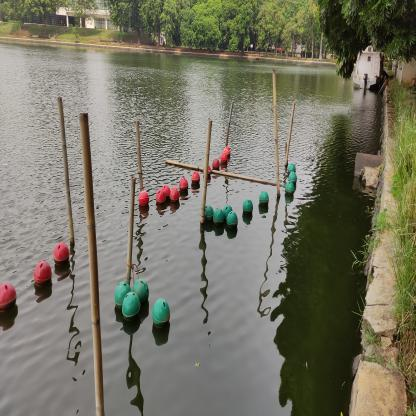green_buoy: (152, 297, 171, 330), (122, 290, 141, 323), (114, 280, 132, 309), (132, 277, 150, 306), (213, 206, 224, 226), (227, 210, 238, 230), (242, 198, 254, 216), (259, 190, 270, 207), (204, 204, 214, 222), (223, 204, 233, 222), (285, 180, 295, 196), (288, 171, 297, 184), (288, 163, 296, 174)
red_buoy: (0, 282, 18, 314), (32, 259, 52, 287), (53, 241, 70, 266), (138, 190, 150, 207), (169, 186, 180, 203), (156, 189, 166, 205), (191, 170, 201, 185), (179, 176, 188, 192), (162, 184, 170, 200), (202, 165, 211, 177), (212, 157, 220, 170), (220, 152, 228, 164), (223, 146, 230, 158)
